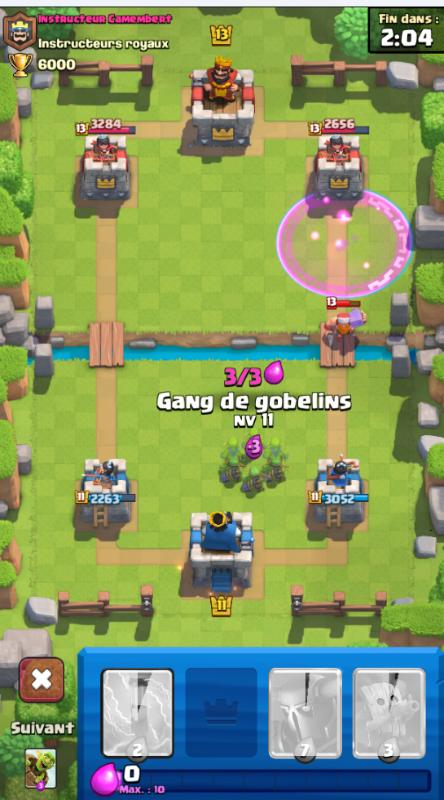gobelin: (237, 421, 268, 462), (263, 430, 293, 465), (215, 433, 245, 467)
gobelin_lances: (262, 456, 294, 487), (217, 456, 243, 489), (240, 465, 264, 497)
